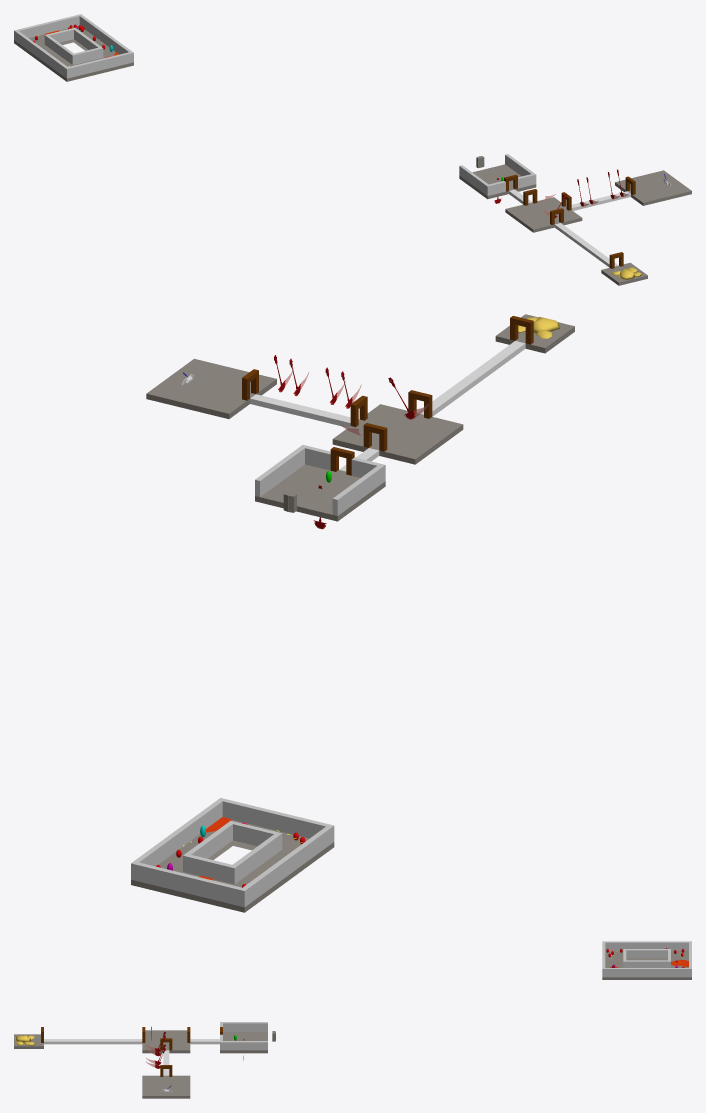
The model's file is Pendulum.fbx.
The picture shows the model from 3 angles, top to bottom: view 1: azimuth 30°, elevation 25°; view 2: azimuth 150°, elevation 25°; view 3: azimuth 270°, elevation 25°; orthographic projection. The views are drawn at different scales.
Visible parts, largest first — view 1: hordeModeRoom, Cube.007, Cube.003, Cube.001, Cube, Cube.011, Cube.012, Cube.004; view 2: hordeModeRoom, Cube.007, Cube.003, Cube.001, Cube, Cube.011, Cube.004, Cube.006, Cube.012; view 3: hordeModeRoom, Cube.007, Cube.001, Cube.003, Cube, Cube.011, Cube.012.
Boxes of the visible parts, x1,y1,x2,y2 form: hordeModeRoom: (14,14,133,81); Cube.007: (615,170,691,205); Cube.003: (505,197,582,232); Cube.001: (459,154,536,195); Cube: (459,164,536,199); Cube.011: (554,223,618,267); Cube.012: (601,262,647,285); Cube.004: (476,156,563,224); hordeModeRoom: (131,798,334,912); Cube.007: (146,358,276,418); Cube.003: (332,404,463,464); Cube.001: (255,445,385,515); Cube: (255,464,385,521); Cube.011: (417,341,525,416); Cube.004: (283,390,432,512); Cube.006: (250,394,358,427); Cube.012: (495,314,574,353); hordeModeRoom: (602,941,691,979); Cube.007: (142,1075,190,1098); Cube.001: (220,1022,267,1050); Cube.003: (142,1030,190,1053); Cube: (220,1031,267,1053); Cube.011: (44,1039,142,1044); Cube.012: (14,1034,43,1048).
Bounding box in the file's own units: 116 × 15.75 × 227.
